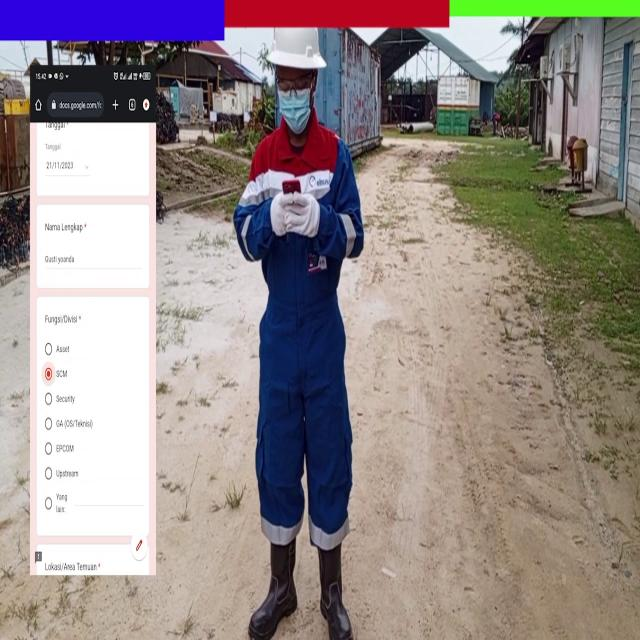Gloves: (288, 193, 320, 240), (270, 193, 295, 243)
Hardhat: (264, 28, 329, 76)
Mask: (279, 87, 313, 132)
Overall Suit: (233, 135, 364, 541)
Safety Boots: (248, 537, 296, 639), (315, 540, 351, 637)
